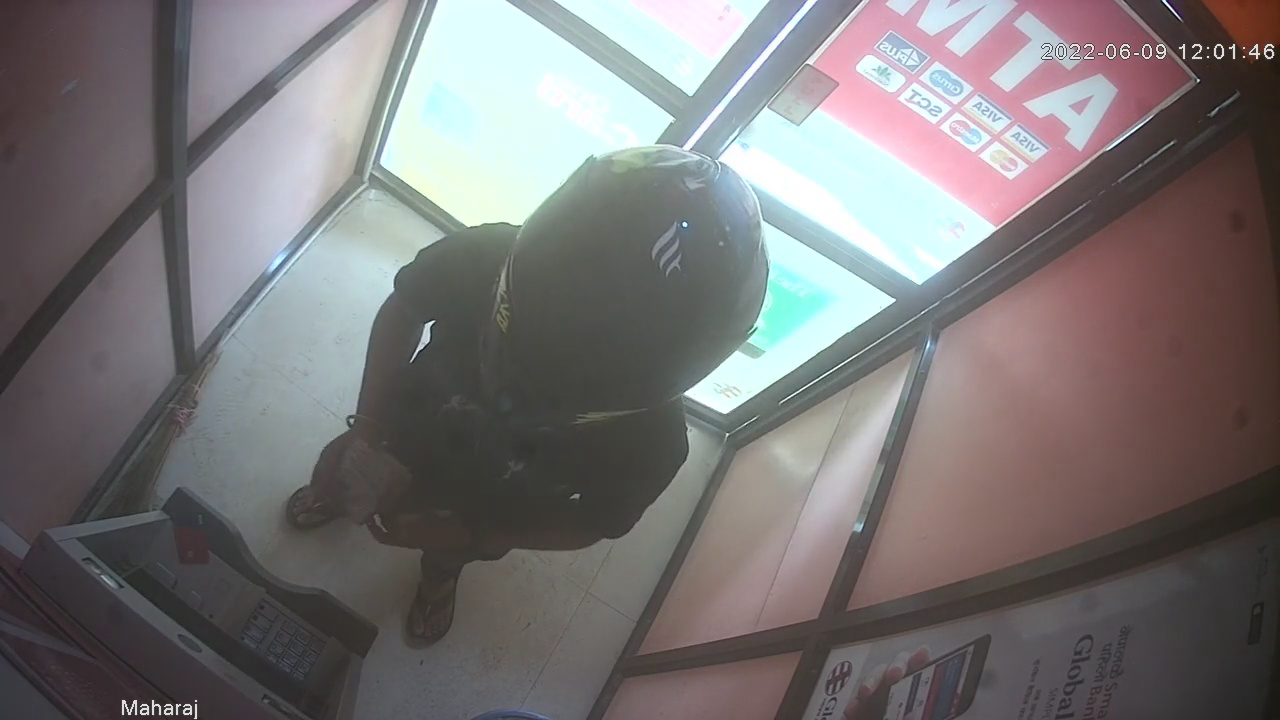person: (284, 142, 770, 647), (476, 145, 769, 433)
